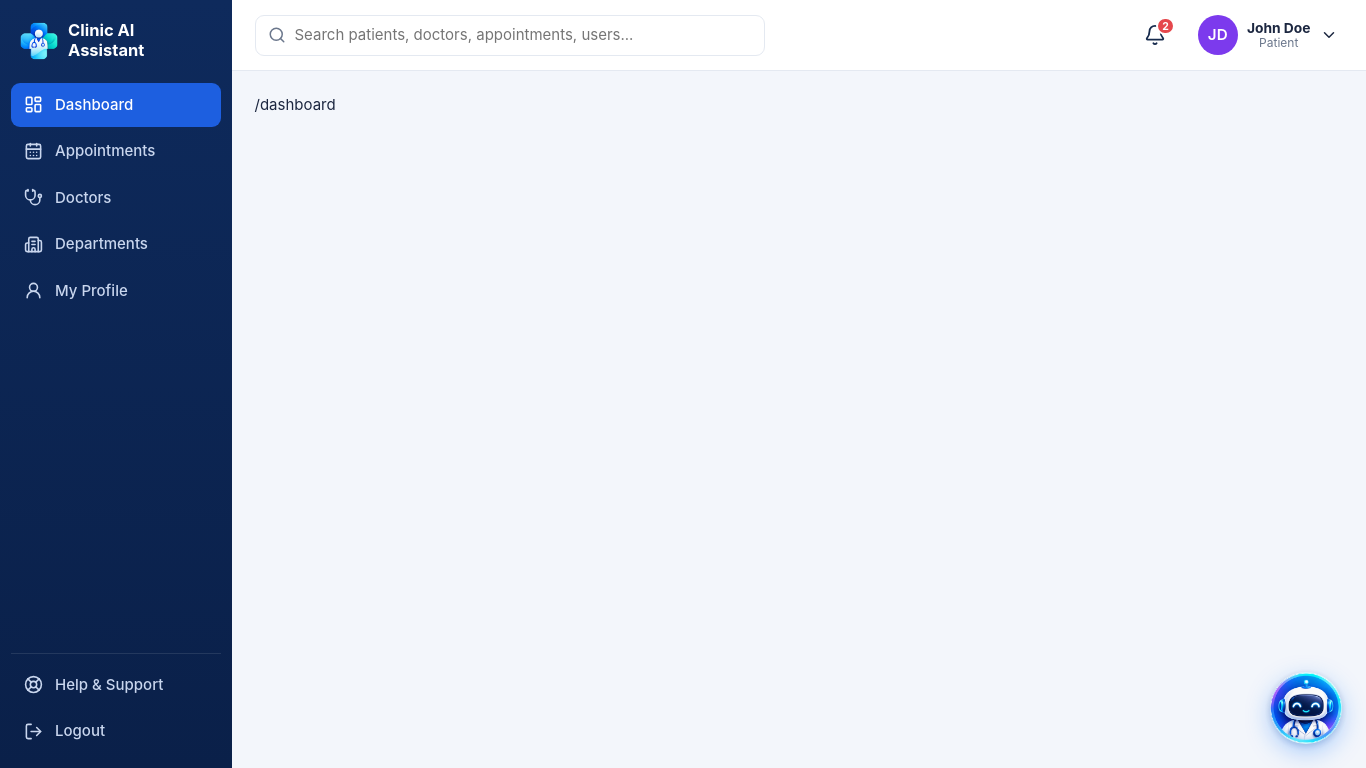
Test case: shell behaviour › the bell shows the real unread count and opens the notifications
Click the button named "Notifications, 2 unread" at (1155, 35), box [1133,13,1177,57]
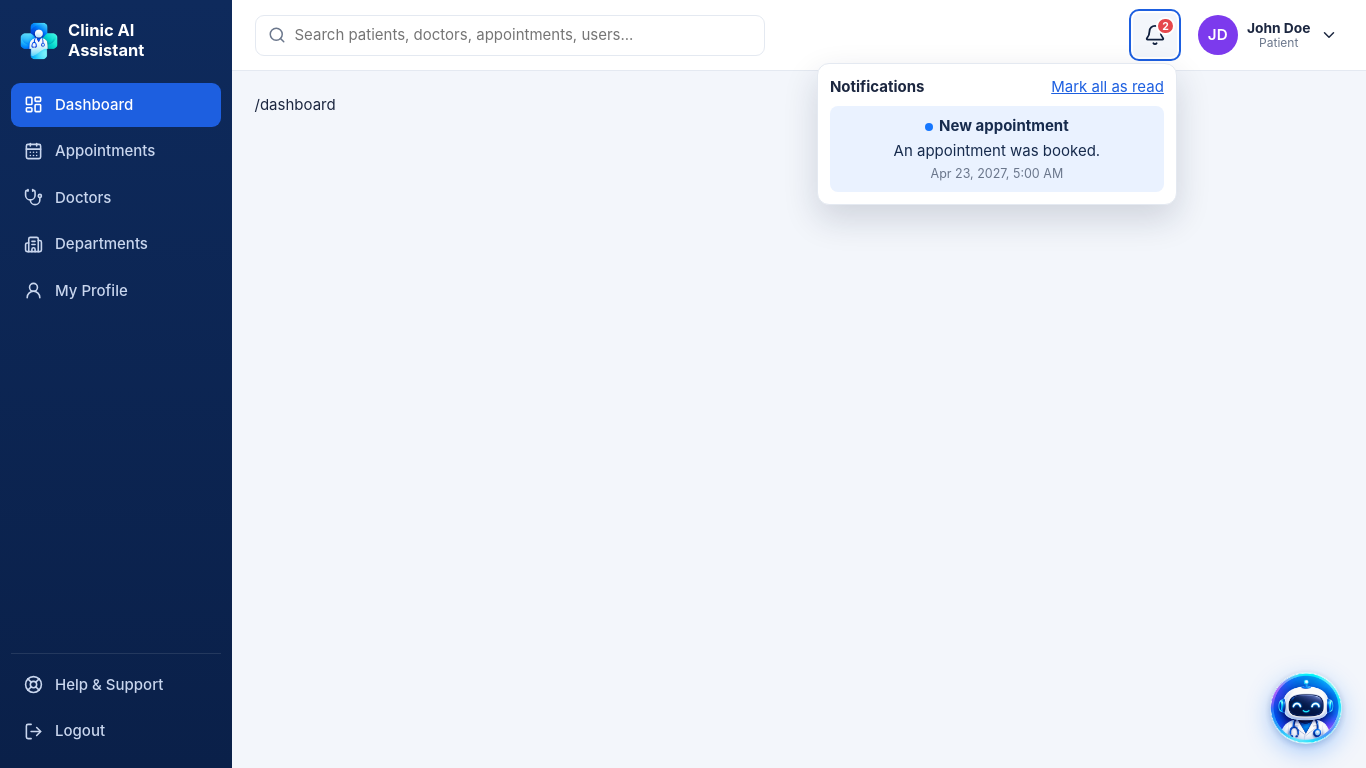
Click the button "New appointment" at (997, 149), box [830,106,1164,192]
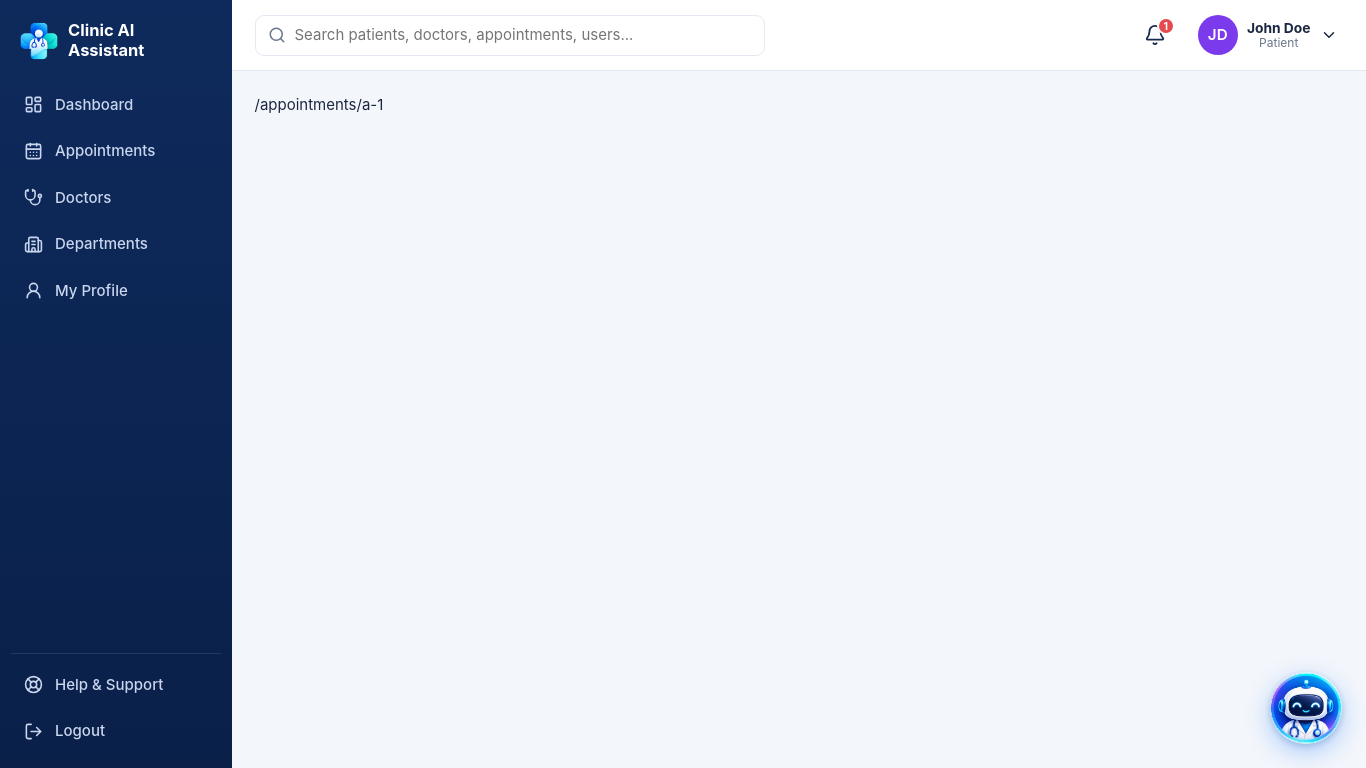
Result: the text with test id "where" reads "/appointments/a-1" at [254,94,383,114]
